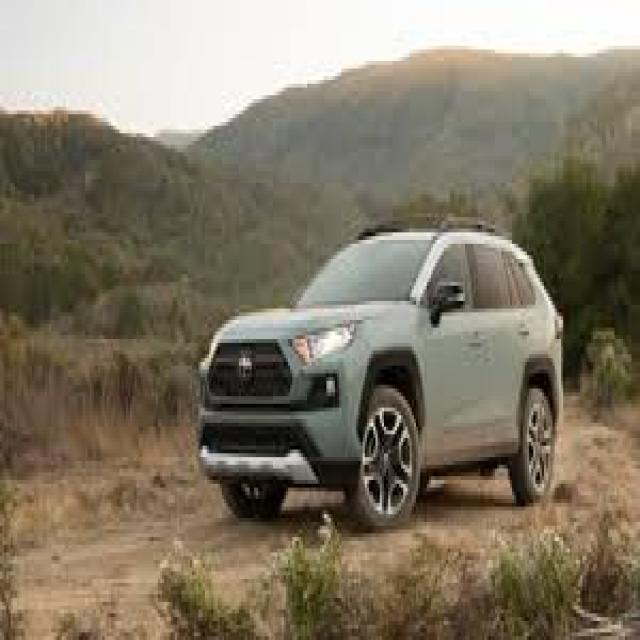light_vehicle: (197, 223, 566, 531)
